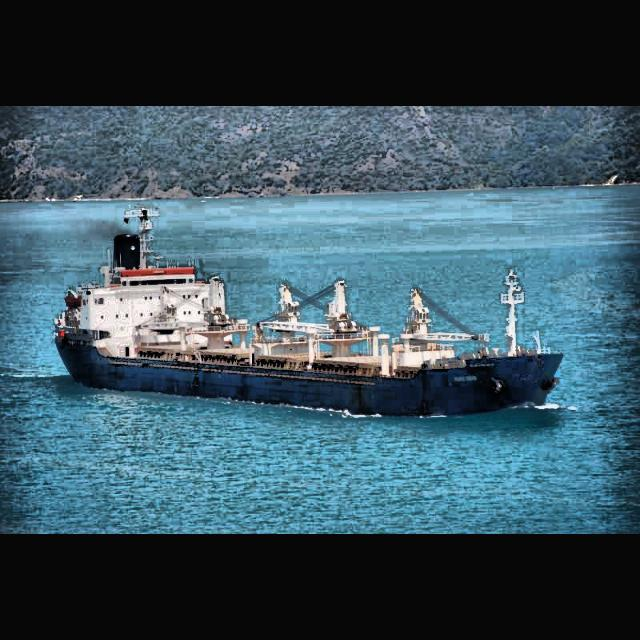bulk_carrier: (52, 205, 566, 422)
